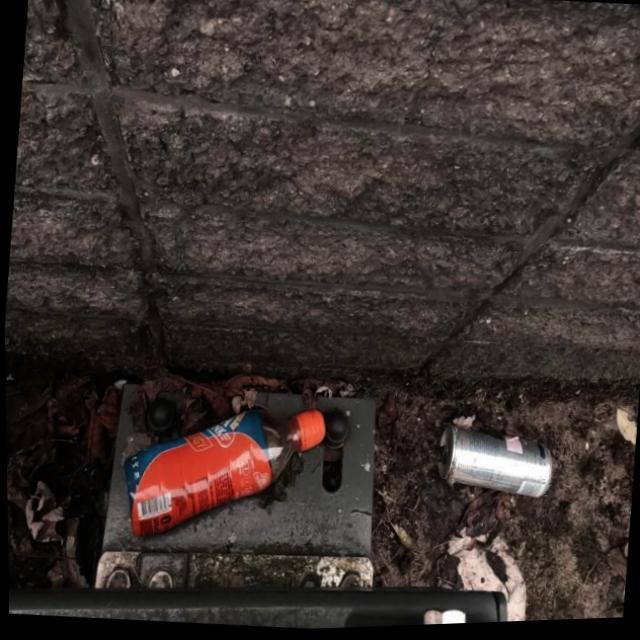Can-Metal: (429, 422, 554, 504)
Paper: (437, 521, 532, 627)
